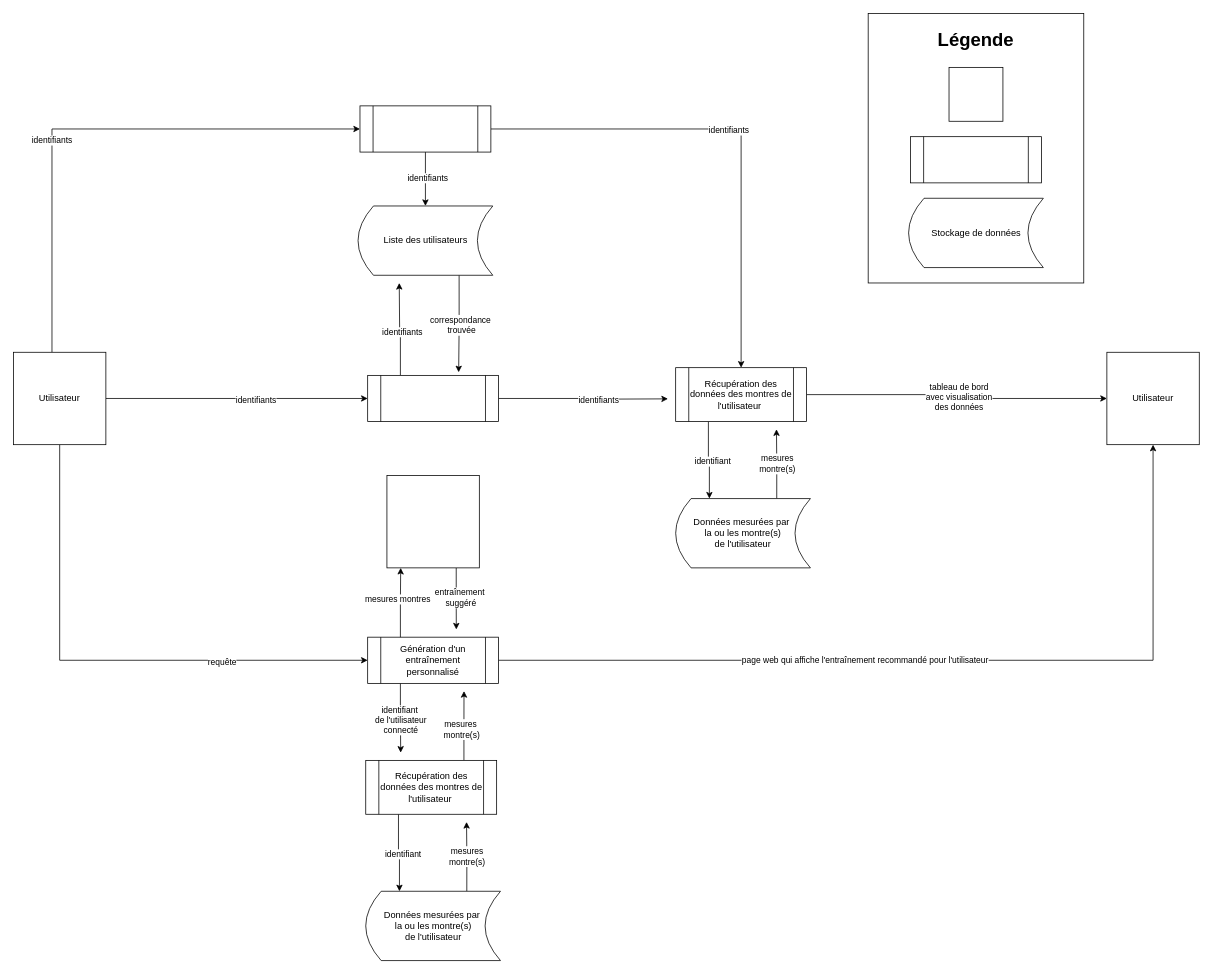
The diagram is 1213 pixels wide and 974 high, and some of its shapes have lost their labels. The shapes that lost their labels are listed below. From the top down, each one's centre as x and y in pixels, then its label:
At (975,94): "Entité".
At (425,128): "Inscription".
At (975,159): "Processus".
At (433,398): "Connexion".
At (432,521): "Modèle d'intelligence artificielle".
